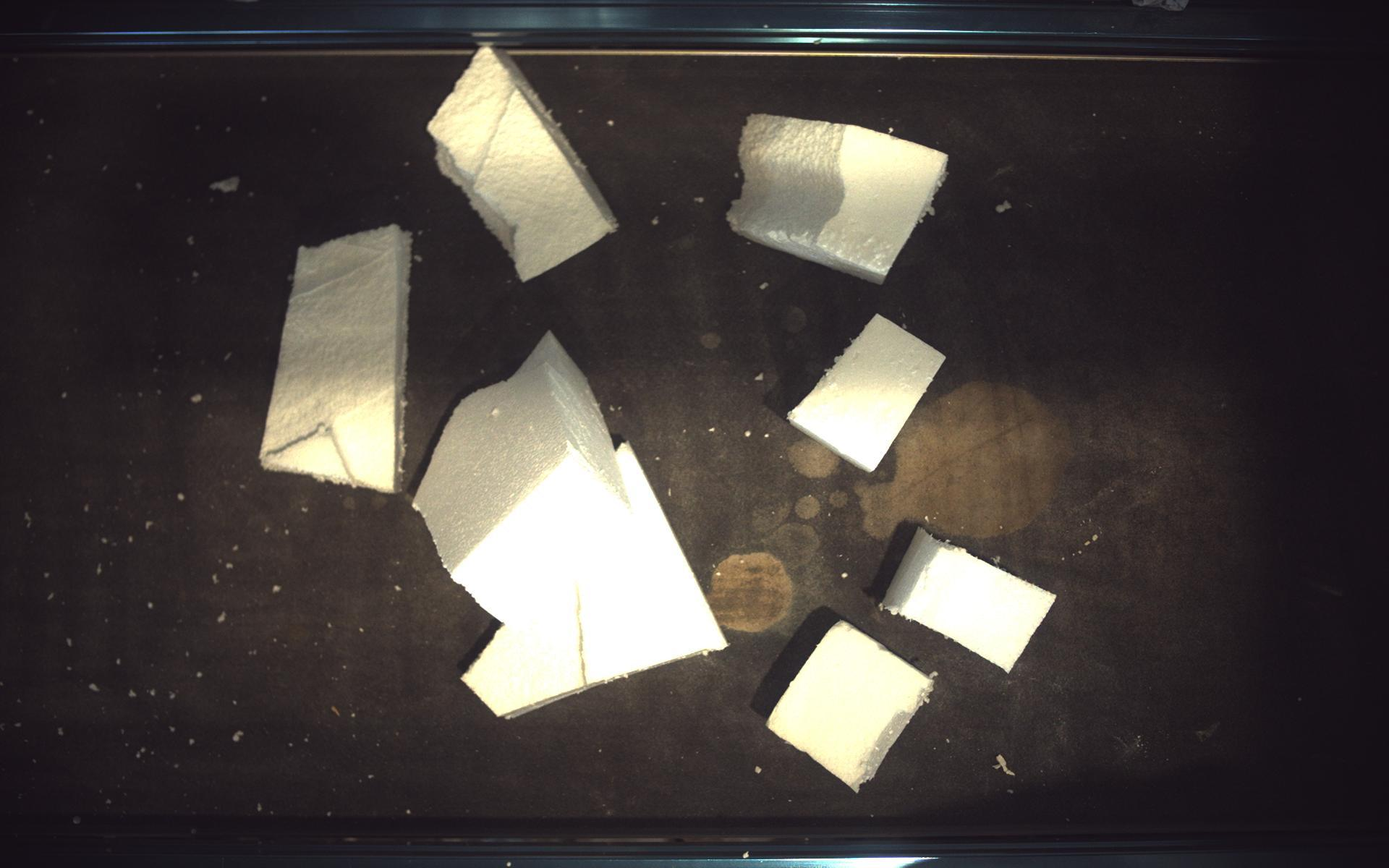foam: (463, 444, 727, 718), (414, 332, 637, 627), (428, 43, 619, 280), (260, 224, 412, 493), (729, 113, 949, 283), (768, 620, 935, 793), (883, 528, 1058, 673), (789, 314, 946, 472)
